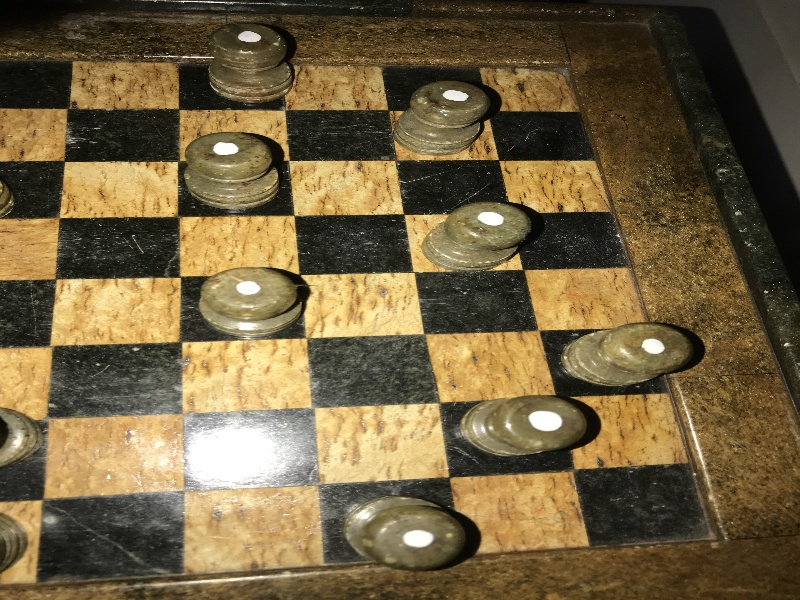WhitePawn: (343, 496, 464, 567), (563, 323, 687, 385), (462, 396, 585, 456), (422, 202, 530, 270), (185, 132, 279, 209), (393, 79, 490, 153), (199, 268, 303, 337), (209, 23, 294, 101)
